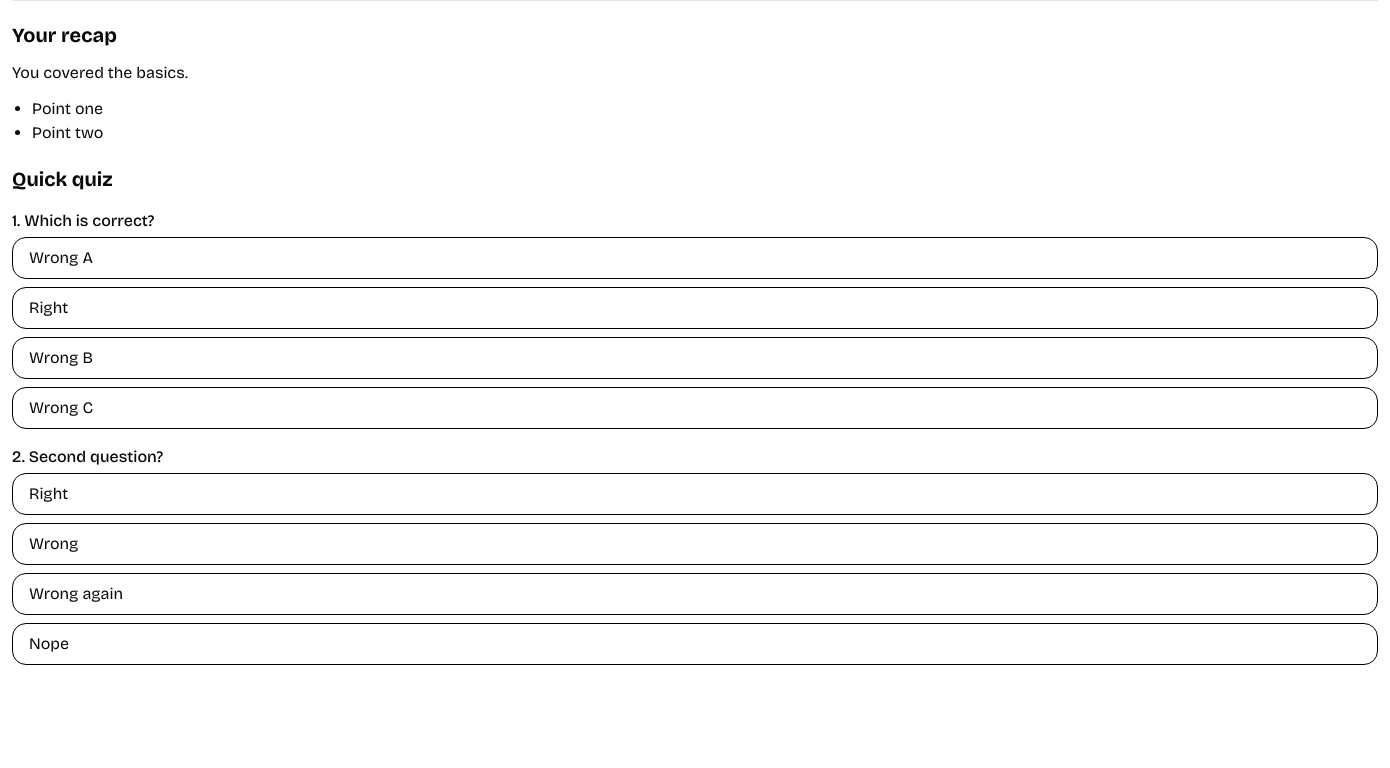
SessionRecap › waits for the transcript to settle, then shows the recap and a scored quiz
The image size is (1390, 768).
Check: the text "You covered the basics." is shown, box [12,63,188,82]
Check: the list item "Point one" is shown, box [32,99,103,118]
Click the button "Wrong A": x=61, y=258 [12,237,1378,279]
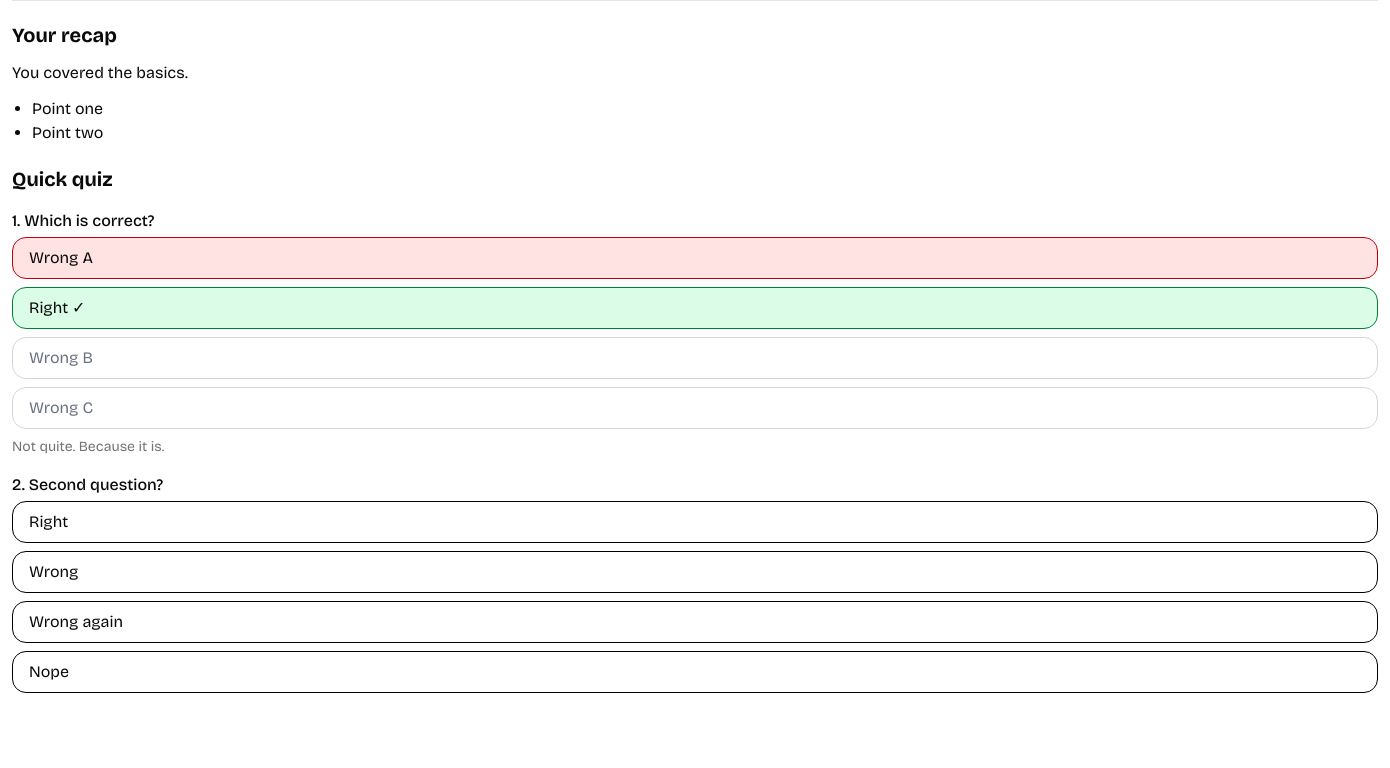
Check: the text "Not quite. Because it is." is shown, box [12,438,164,455]
Check: the button "Right ✓" is disabled, box [12,287,1378,329]
Click the button "Right": x=49, y=522 [12,501,1378,543]
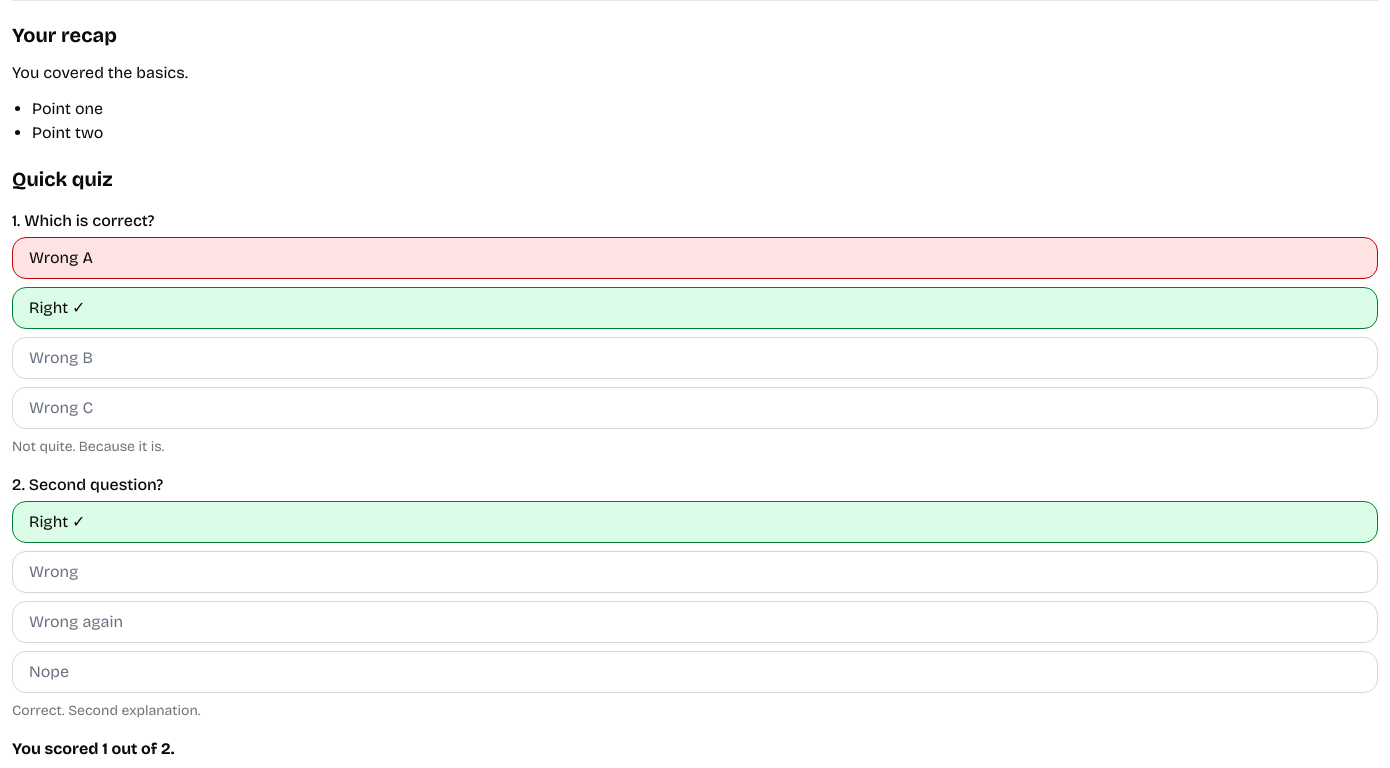
Check: the text "You scored 1 out of 2." is shown, box [12,739,174,758]
